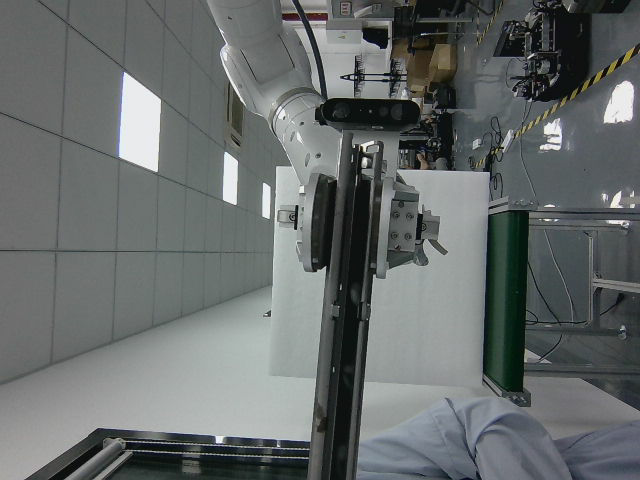left: (307, 129, 390, 479)
